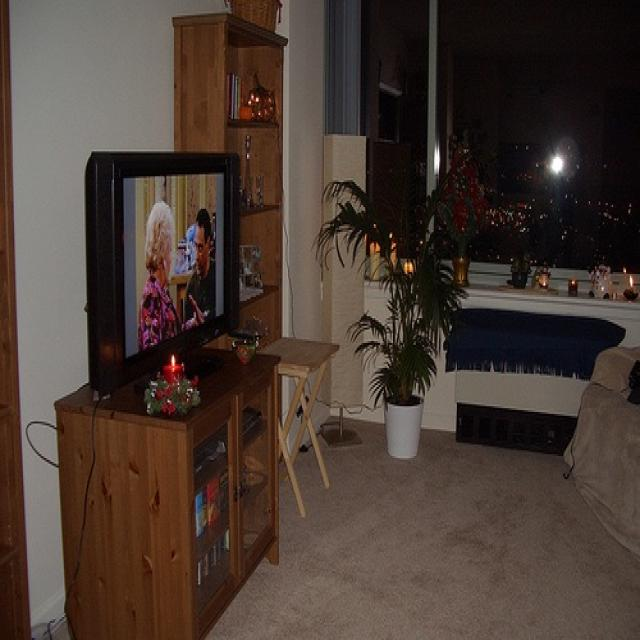pottedplant: (321, 153, 474, 462)
tvmonitor: (82, 146, 242, 389)
